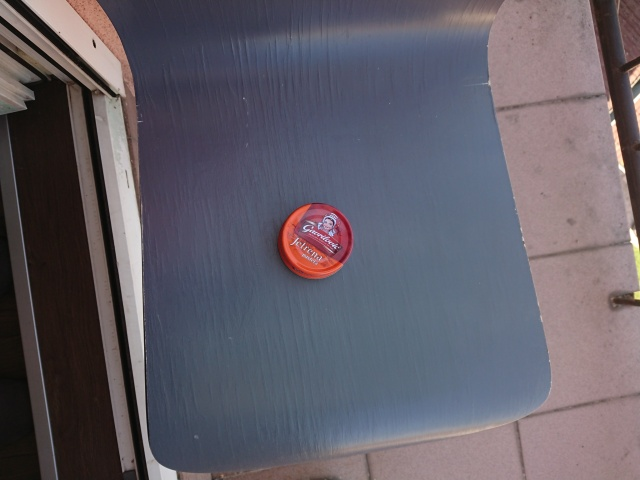Gavrilovic Pork Liver Pate 100g: (275, 200, 355, 282)
